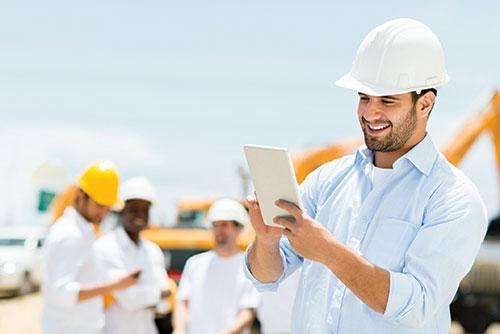helmet: (336, 18, 453, 99), (77, 162, 123, 211), (204, 198, 252, 238), (121, 177, 159, 208)
